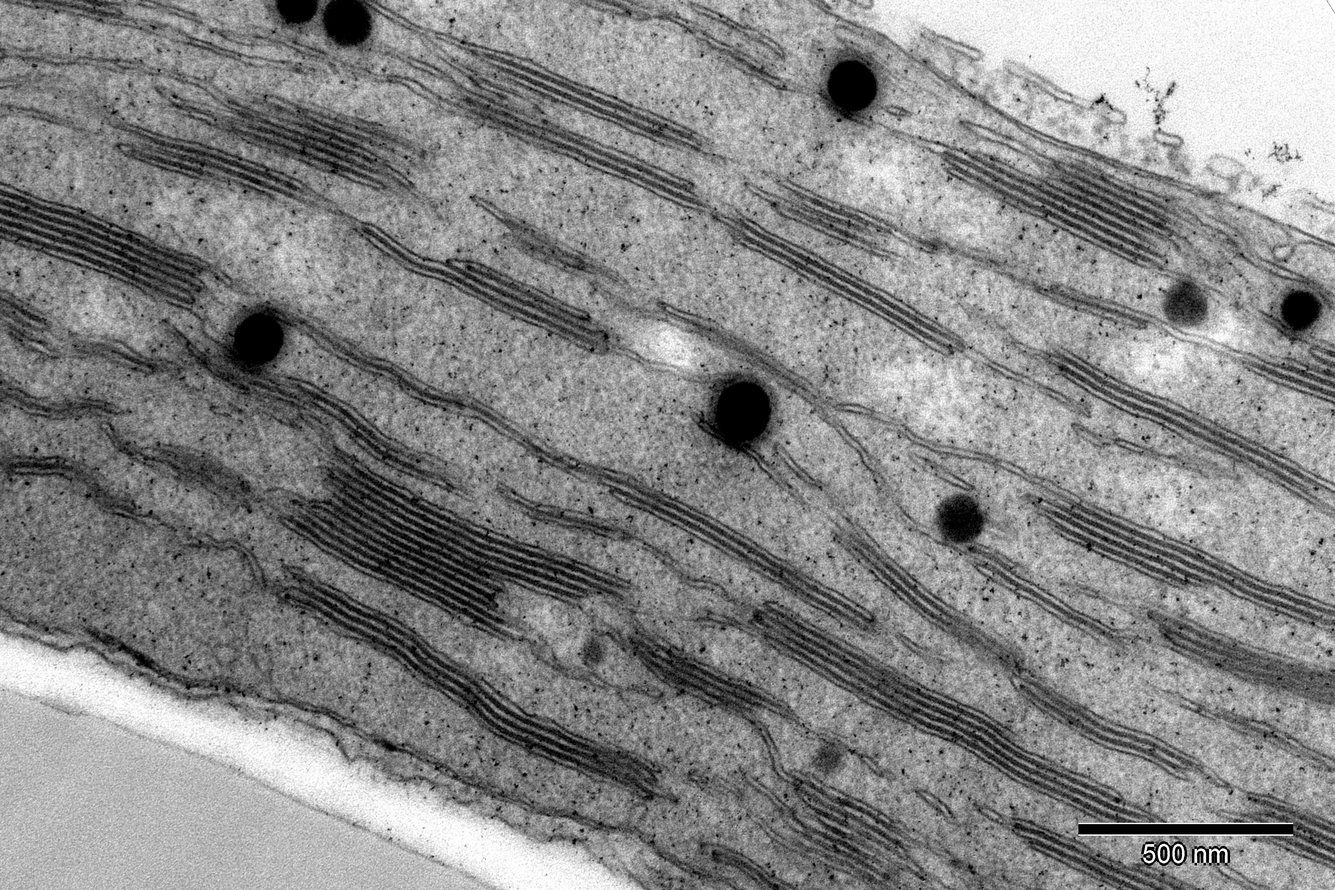granum: (742, 594, 1166, 824), (270, 560, 668, 805), (272, 447, 616, 648), (1037, 337, 1335, 522), (1024, 471, 1335, 637), (602, 466, 882, 636), (191, 337, 477, 502), (937, 137, 1223, 275), (721, 207, 970, 364), (448, 71, 699, 211), (821, 508, 1026, 678), (0, 179, 217, 318), (488, 47, 721, 167), (215, 78, 431, 198), (1007, 664, 1210, 785), (122, 119, 335, 224), (773, 764, 938, 890), (1153, 608, 1335, 715), (435, 254, 613, 357), (618, 619, 770, 728), (1020, 819, 1208, 890), (127, 435, 261, 522), (775, 179, 898, 263), (1239, 792, 1334, 875), (507, 216, 612, 288), (1236, 336, 1335, 407), (961, 539, 1038, 600), (0, 283, 58, 360), (0, 0, 141, 30)
